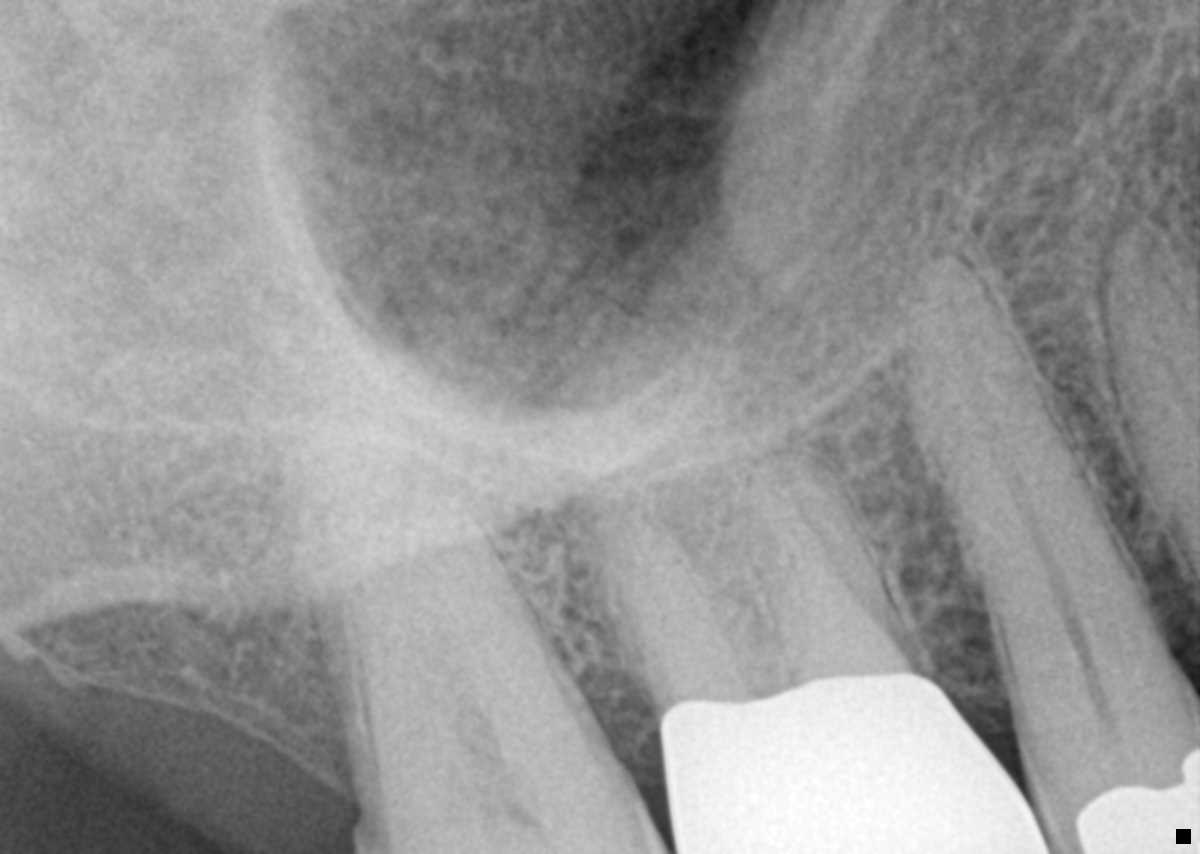Distal Root: (611, 516, 750, 700)
Main Canal: (960, 353, 1145, 762)
Main Root: (895, 239, 1200, 815), (298, 449, 621, 800), (1098, 217, 1200, 579)
Mesial Root: (743, 436, 919, 685)
Palatal Root: (550, 289, 910, 689)
